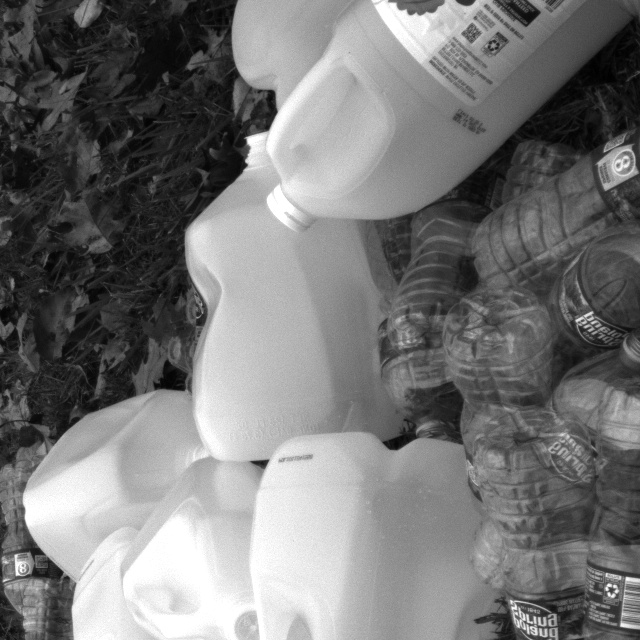bottle: (416, 312, 605, 627), (465, 115, 640, 298), (389, 179, 470, 396), (0, 433, 62, 611)
can: (248, 0, 640, 245), (159, 147, 402, 483), (240, 417, 491, 640), (14, 383, 229, 600), (212, 0, 510, 152), (118, 456, 329, 640), (54, 518, 285, 640)
container: (136, 256, 233, 393)
